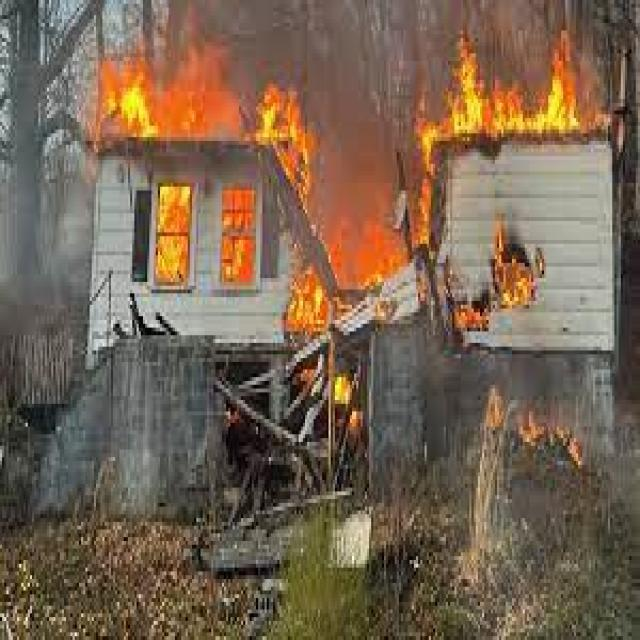Fire: (98, 48, 329, 302), (427, 1, 616, 130)
Smoke: (201, 0, 640, 86)
